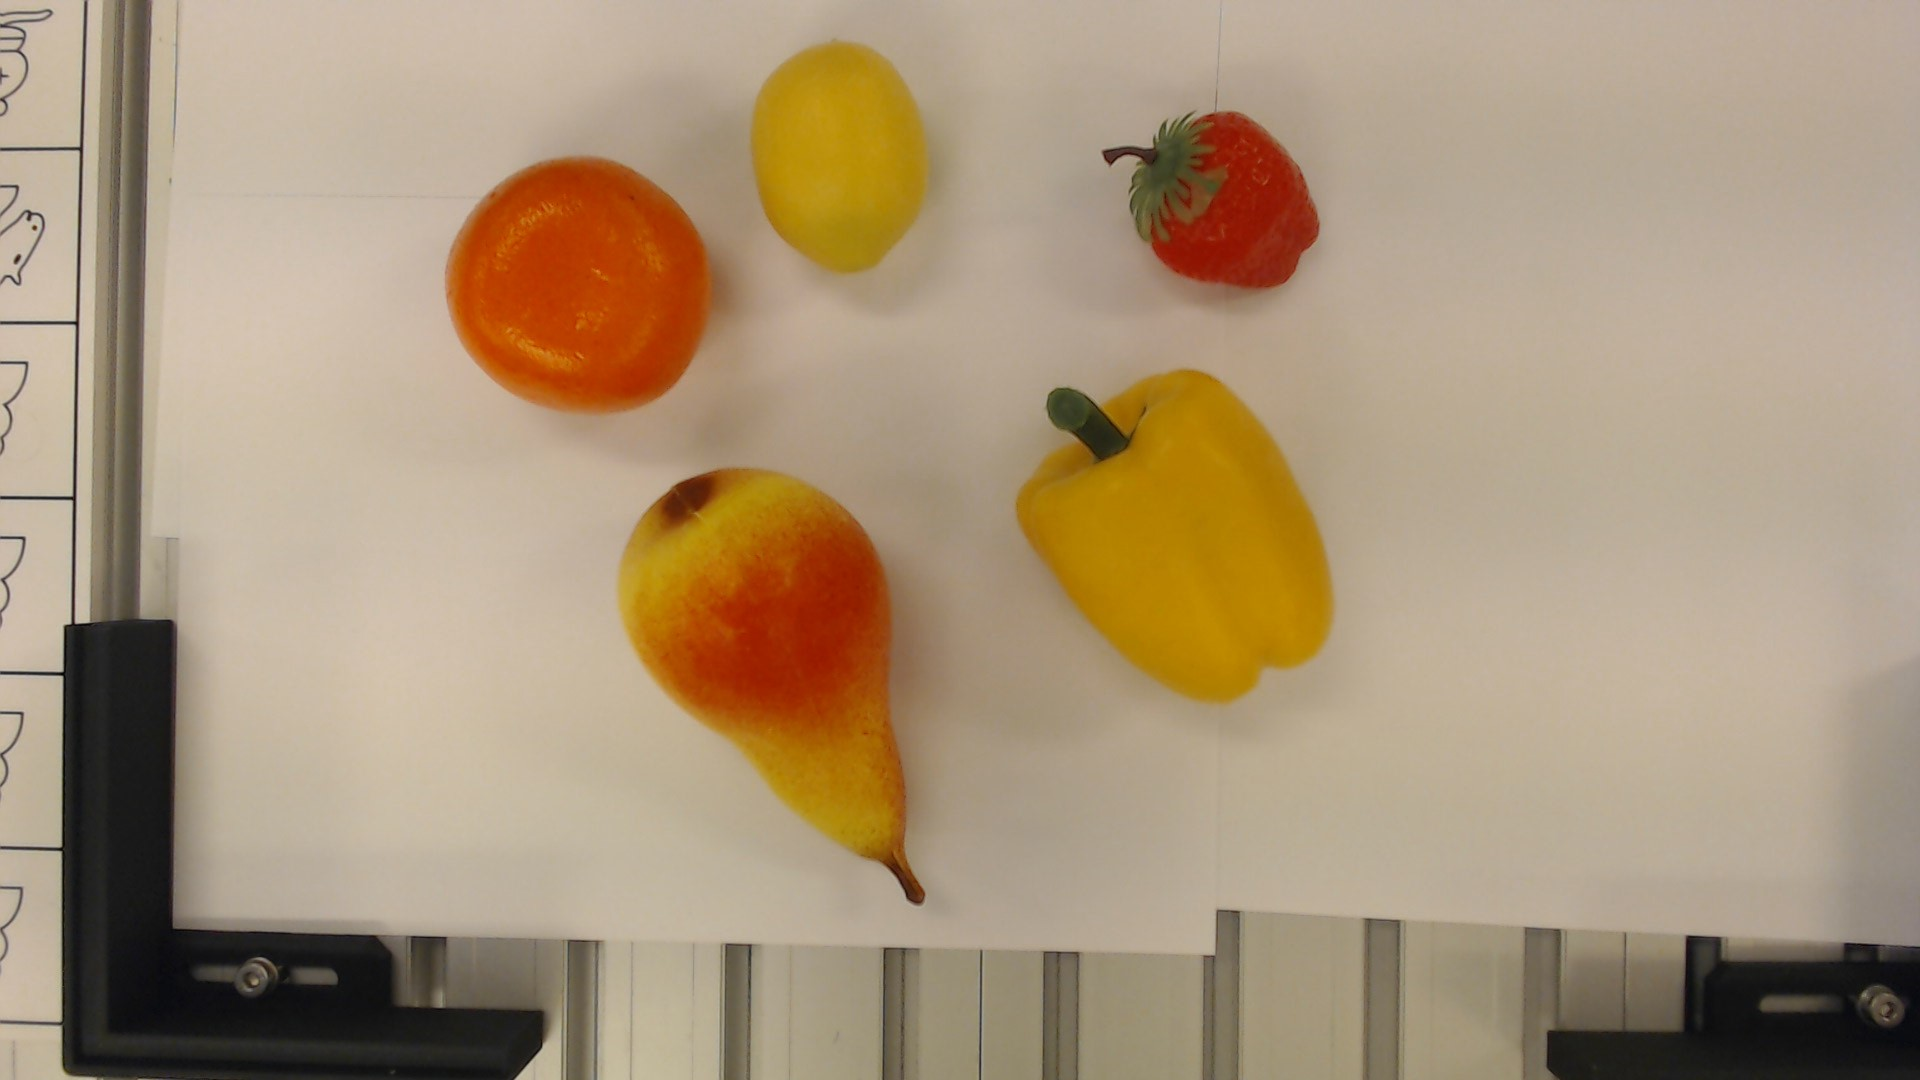Lemon: (749, 38, 934, 276)
Mandarin: (442, 150, 724, 423)
Pear: (616, 460, 930, 909)
Strawberry: (1093, 103, 1325, 293)
Yellow Bell Pepper: (1021, 348, 1335, 708)
